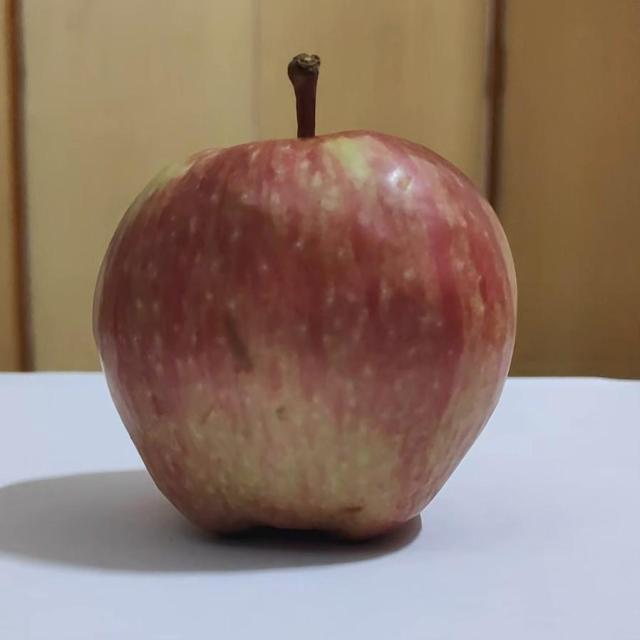Apple: (94, 55, 515, 537)
